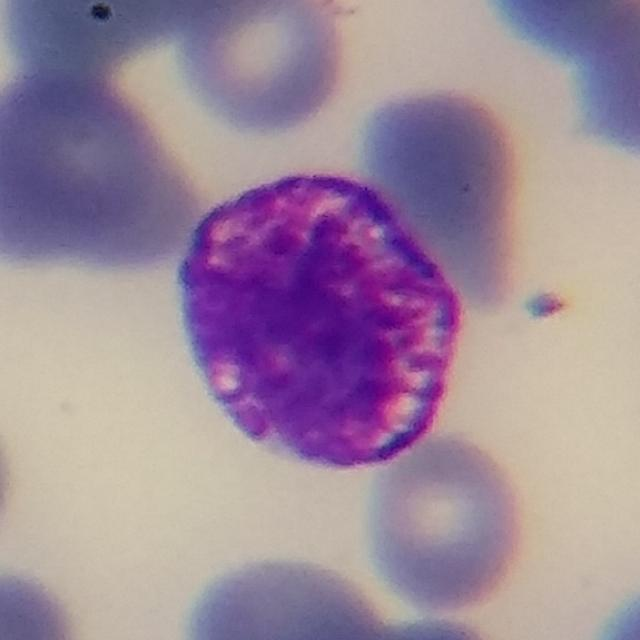Basophil: (164, 153, 485, 495)
Platelets: (520, 285, 573, 326)
RBC: (343, 75, 534, 317), (0, 80, 208, 275), (359, 428, 536, 616), (168, 0, 357, 139), (498, 0, 640, 151), (175, 548, 406, 639), (0, 0, 213, 91), (0, 561, 89, 640), (350, 611, 518, 640), (0, 384, 23, 567), (582, 576, 640, 640)
